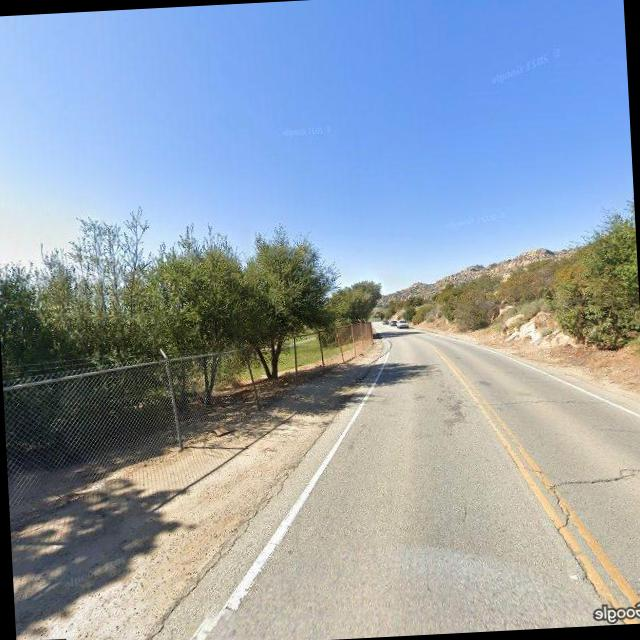crack: (520, 446, 604, 604), (545, 458, 640, 495)
